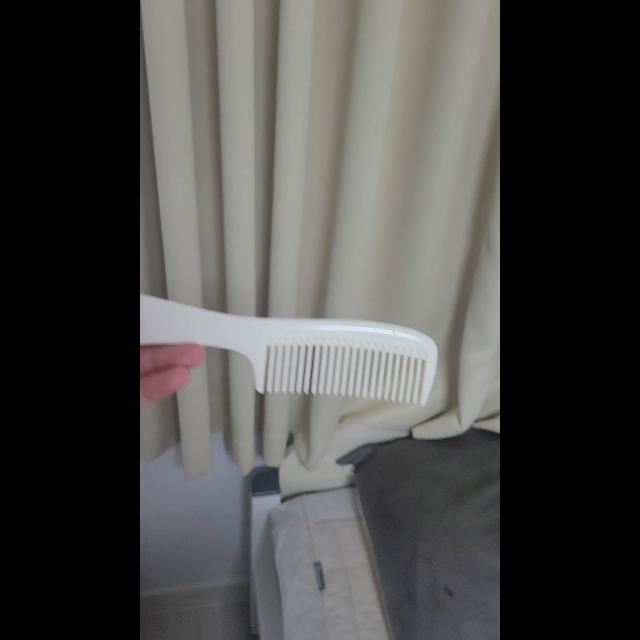COMB: (140, 292, 438, 410)
